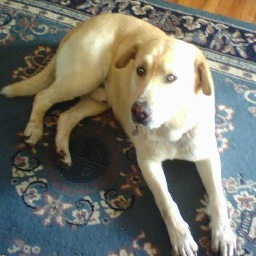dog: (1, 7, 238, 256)
